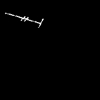treble_crochet: (9, 14, 42, 24)
